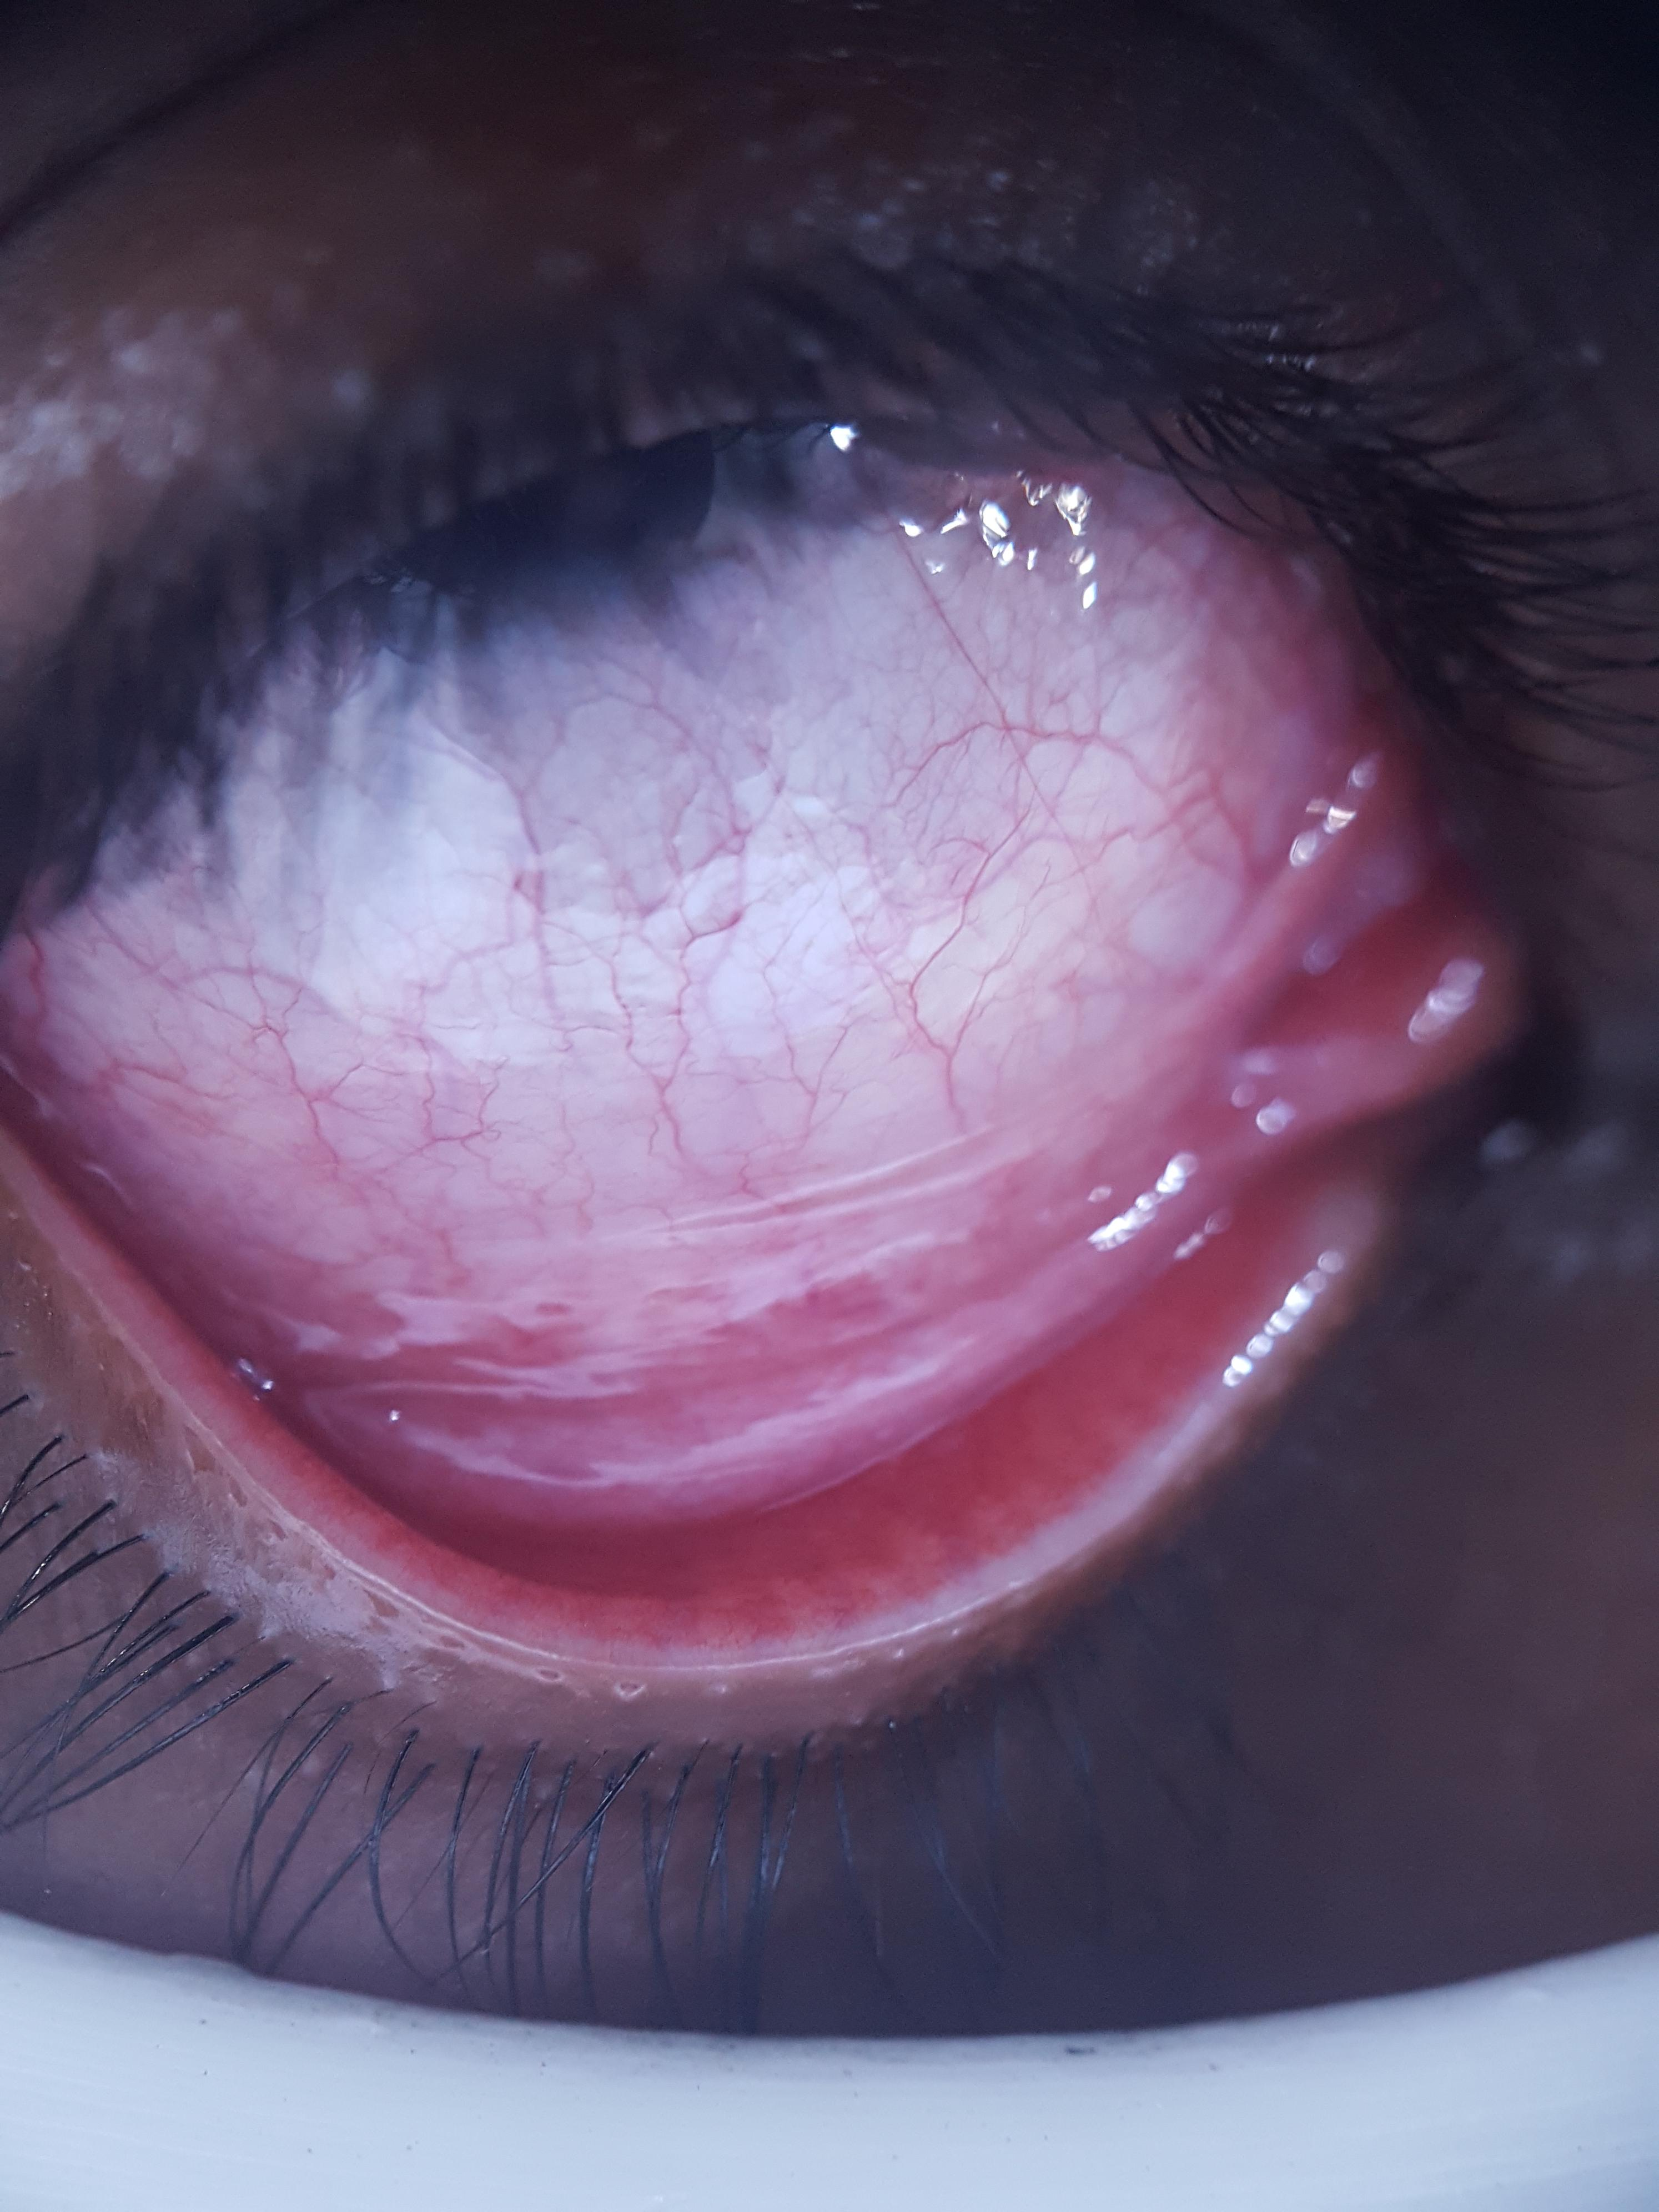forniceal: (0, 1003, 1246, 1531)
forniceal_palpebral: (0, 998, 1323, 1642)
palpebral: (0, 1076, 1321, 1637)
